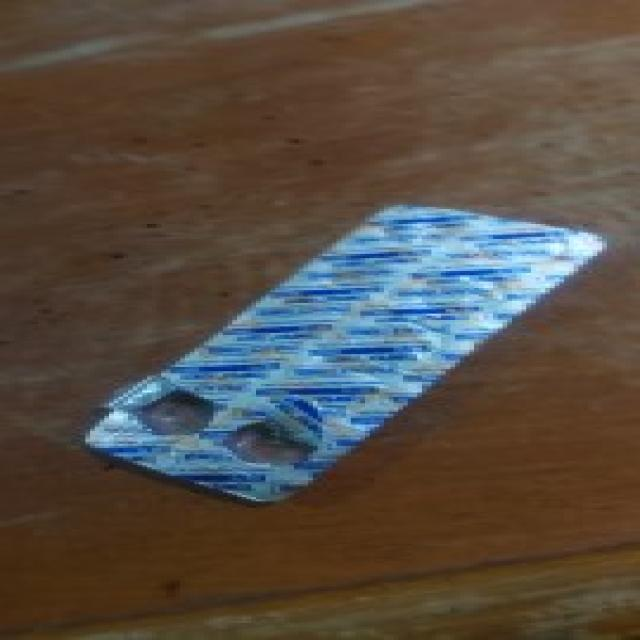Cacat: (76, 201, 604, 507)
Kemasan: (126, 388, 220, 442), (229, 418, 325, 470)
